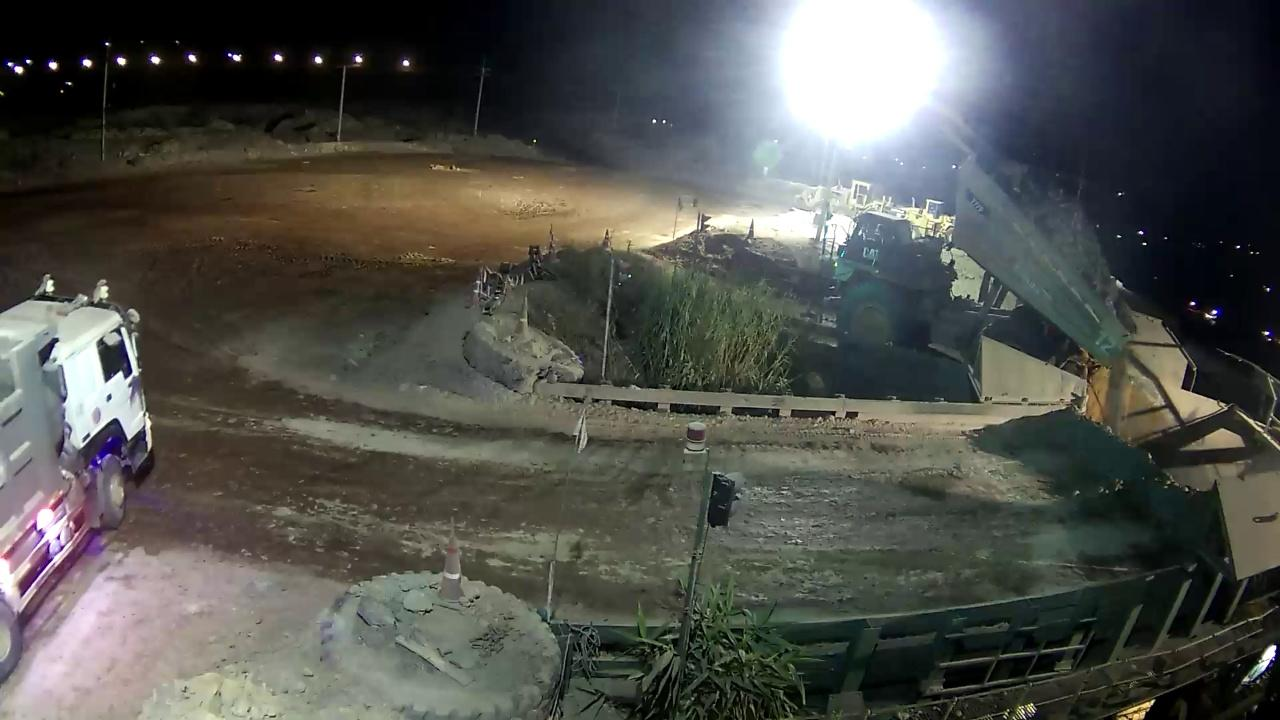dumping_soil: (832, 106, 1154, 397)
tail_number: (1090, 328, 1120, 363)
